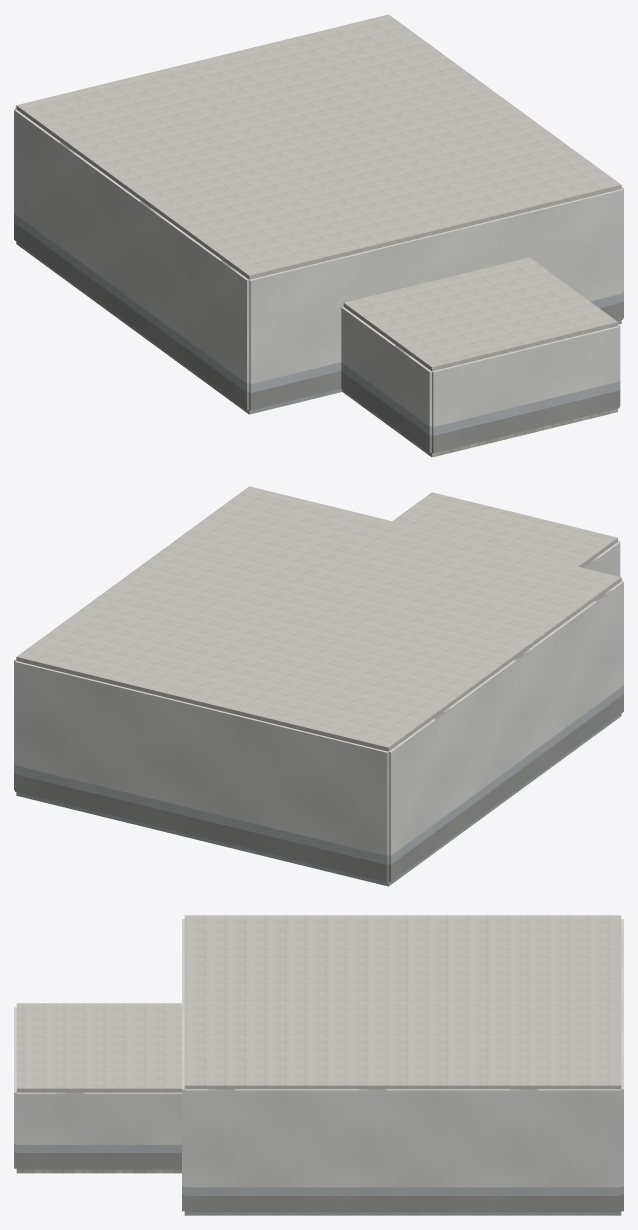
Rendered from op07_shell.glb.
3 renders of one model, top to bottom at view 1: azimuth 30°, elevation 25°; view 2: azimuth 150°, elevation 25°; view 3: azimuth 270°, elevation 25°, orthographic. The views are drawn at different scales.
Visible parts, largest first — view 1: op07_shell; view 2: op07_shell; view 3: op07_shell.
Boxes of the visible parts, x1=… form: op07_shell: x1=14, y1=14, x2=623, y2=457; op07_shell: x1=14, y1=486, x2=623, y2=886; op07_shell: x1=14, y1=915, x2=623, y2=1215.
Bounding box in the file's own units: 24.3 × 8.55 × 36.3.
4 materials, 4 textured.
